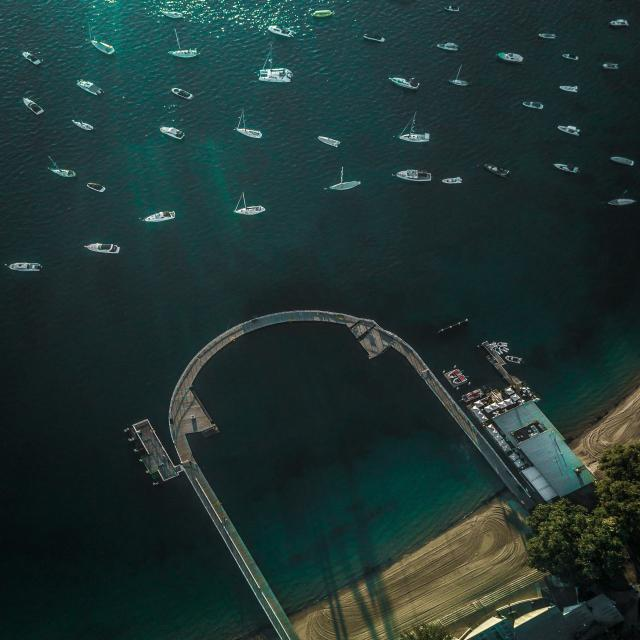ship: (255, 52, 295, 84), (398, 113, 434, 144), (75, 72, 109, 100), (325, 170, 368, 190), (140, 206, 178, 227), (391, 164, 431, 183), (88, 33, 121, 56), (238, 192, 266, 217), (385, 73, 422, 91), (157, 123, 188, 142), (20, 93, 44, 117), (236, 118, 262, 140), (168, 44, 203, 60), (8, 259, 45, 273), (48, 158, 76, 176), (21, 46, 46, 66), (81, 242, 122, 254), (552, 160, 582, 176), (482, 161, 513, 176), (263, 24, 296, 38), (168, 85, 193, 102), (609, 154, 638, 168), (496, 50, 527, 63), (71, 119, 99, 132), (317, 133, 340, 148), (88, 177, 109, 193), (609, 195, 638, 206), (557, 122, 583, 134), (444, 173, 467, 186), (438, 40, 462, 52), (522, 98, 546, 109), (602, 58, 619, 72), (560, 49, 579, 60), (365, 33, 387, 42), (560, 85, 582, 93)
